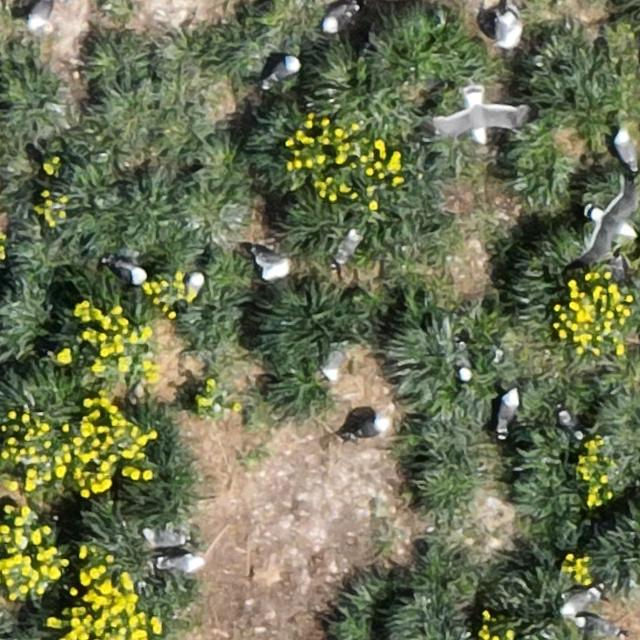F: (432, 98, 524, 140), (588, 188, 637, 260)
umineko: (615, 130, 637, 168), (266, 56, 298, 82), (562, 589, 598, 612), (110, 261, 146, 284), (323, 5, 353, 32), (498, 391, 518, 431), (582, 618, 622, 637), (258, 254, 288, 279), (495, 14, 516, 49), (336, 231, 358, 263), (355, 415, 388, 436), (160, 554, 200, 571), (28, 1, 51, 29), (323, 352, 345, 381), (147, 529, 182, 547), (186, 271, 202, 297)
